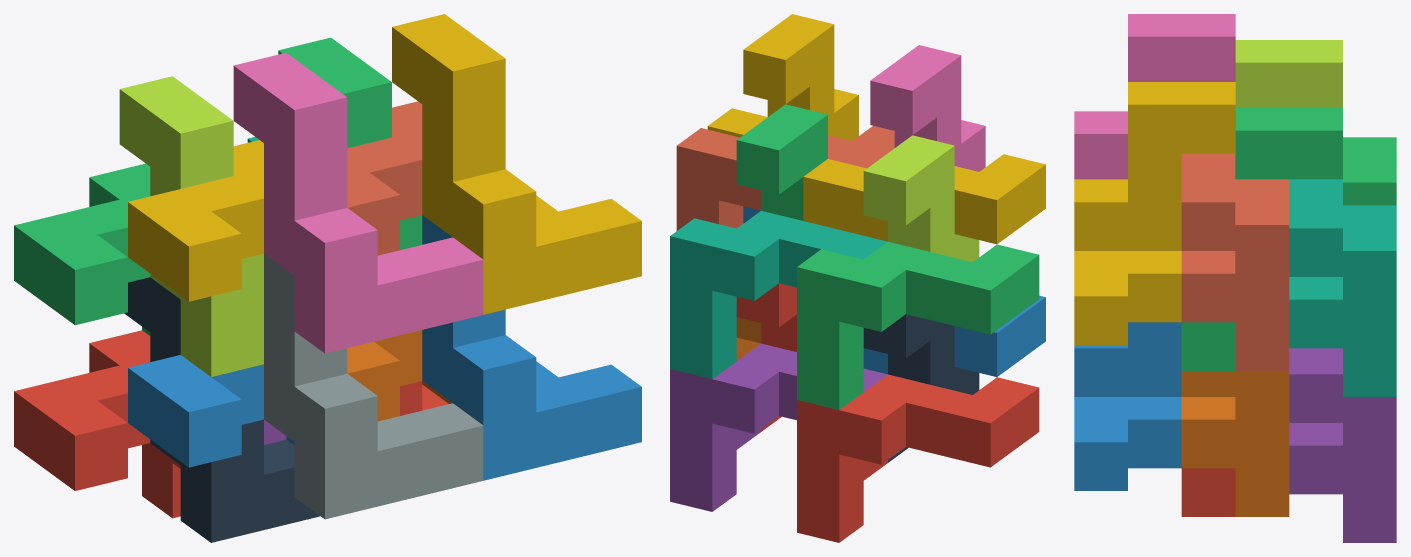
The model's file is tiling.obj.
3 renders of one model, left to right at view 1: azimuth 30°, elevation 25°; view 2: azimuth 150°, elevation 25°; view 3: azimuth 270°, elevation 25°, orthographic. The views are drawn at different scales.
Parts seen in each view (by area): view 1: copy_2_domain_4, copy_2_domain_8, copy_2_domain_2, copy_2_domain_6, copy_2_domain_3, copy_1_domain_1, copy_1_domain_4, copy_1_domain_3, copy_2_domain_1, copy_1_domain_2, copy_1_domain_8, copy_2_domain_7 (+2 smaller); view 2: copy_1_domain_3, copy_1_domain_1, copy_1_domain_7, copy_1_domain_5, copy_1_domain_4, copy_2_domain_8, copy_2_domain_3, copy_2_domain_4, copy_1_domain_8, copy_2_domain_7, copy_2_domain_1, copy_1_domain_2 (+2 smaller); view 3: copy_2_domain_8, copy_1_domain_8, copy_1_domain_7, copy_1_domain_5, copy_2_domain_6, copy_1_domain_6, copy_2_domain_4, copy_2_domain_7, copy_2_domain_3, copy_1_domain_3, copy_2_domain_5.
Boxes of the visible parts, x1,y1,x2,y2 form: copy_2_domain_4: (233, 52, 483, 353); copy_2_domain_8: (392, 14, 641, 314); copy_2_domain_2: (264, 254, 483, 519); copy_2_domain_6: (422, 215, 641, 480); copy_2_domain_3: (119, 76, 263, 376); copy_1_domain_1: (14, 330, 180, 518); copy_1_domain_4: (128, 140, 263, 301); copy_1_domain_3: (14, 163, 150, 335); copy_2_domain_1: (124, 277, 319, 542); copy_1_domain_2: (128, 355, 294, 467); copy_1_domain_8: (347, 101, 422, 255); copy_2_domain_7: (278, 37, 422, 250); copy_1_domain_3: (797, 241, 1039, 409); copy_1_domain_1: (797, 374, 1039, 542); copy_1_domain_7: (670, 210, 887, 378); copy_1_domain_5: (670, 343, 887, 511); copy_1_domain_4: (803, 154, 1045, 244); copy_2_domain_8: (707, 14, 858, 140); copy_2_domain_3: (863, 135, 979, 262); copy_2_domain_4: (870, 45, 985, 171); copy_1_domain_8: (676, 125, 894, 230); copy_2_domain_7: (736, 104, 827, 220); copy_2_domain_1: (863, 314, 979, 462); copy_1_domain_2: (863, 295, 1045, 376); copy_2_domain_8: (1074, 82, 1235, 344); copy_1_domain_8: (1181, 153, 1289, 370); copy_1_domain_7: (1289, 179, 1396, 396); copy_1_domain_5: (1289, 348, 1396, 542); copy_2_domain_6: (1074, 322, 1181, 490); copy_1_domain_6: (1181, 371, 1289, 516); copy_2_domain_4: (1074, 14, 1235, 179); copy_2_domain_7: (1181, 108, 1342, 370); copy_2_domain_3: (1235, 40, 1342, 107); copy_1_domain_3: (1343, 137, 1396, 205); copy_2_domain_5: (1181, 468, 1235, 516).
Size of the model in its own units: 9 by 9 by 6.
